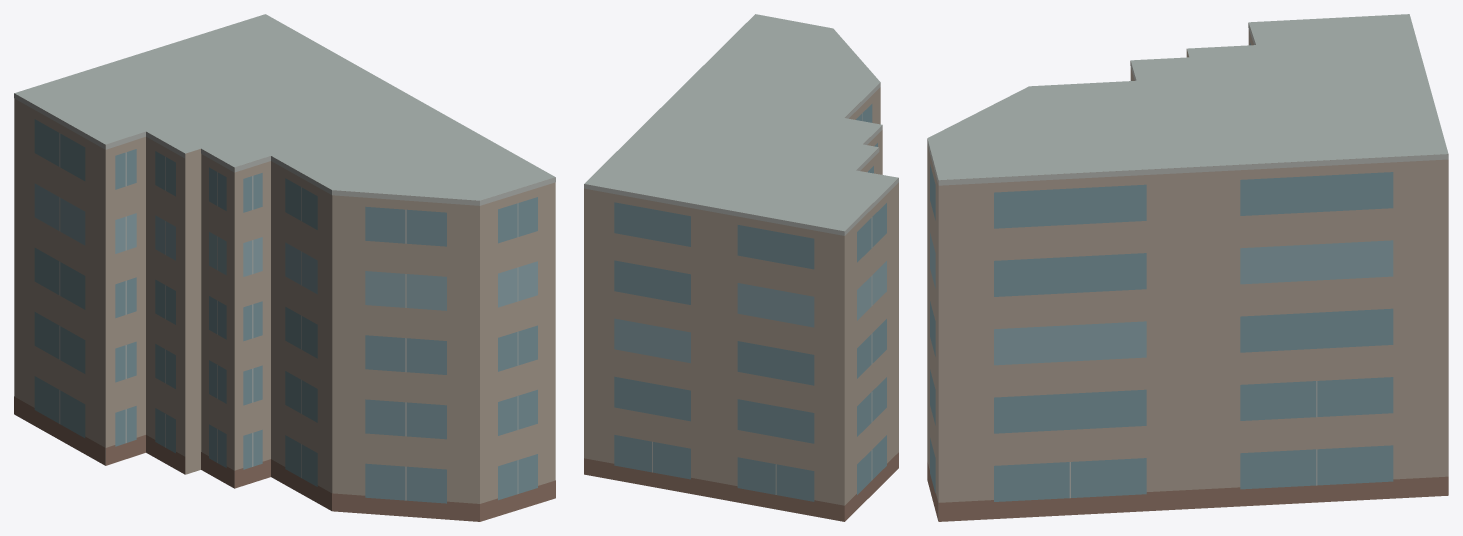
The model's file is survey-upis-32975467.glb.
3 renders of one model, left to right at view 1: azimuth 30°, elevation 25°; view 2: azimuth 150°, elevation 25°; view 3: azimuth 270°, elevation 25°, orthographic. The views are drawn at different scales.
Parts seen in each view (by area): view 1: survey-upis-32975467.tmp; view 2: survey-upis-32975467.tmp; view 3: survey-upis-32975467.tmp.
Boxes of the visible parts, <box> form: survey-upis-32975467.tmp: <box>14,14,555,521</box>; survey-upis-32975467.tmp: <box>584,14,898,521</box>; survey-upis-32975467.tmp: <box>927,14,1448,521</box>.
Size of the model in its own units: 15.92 by 15.25 by 21.09.
